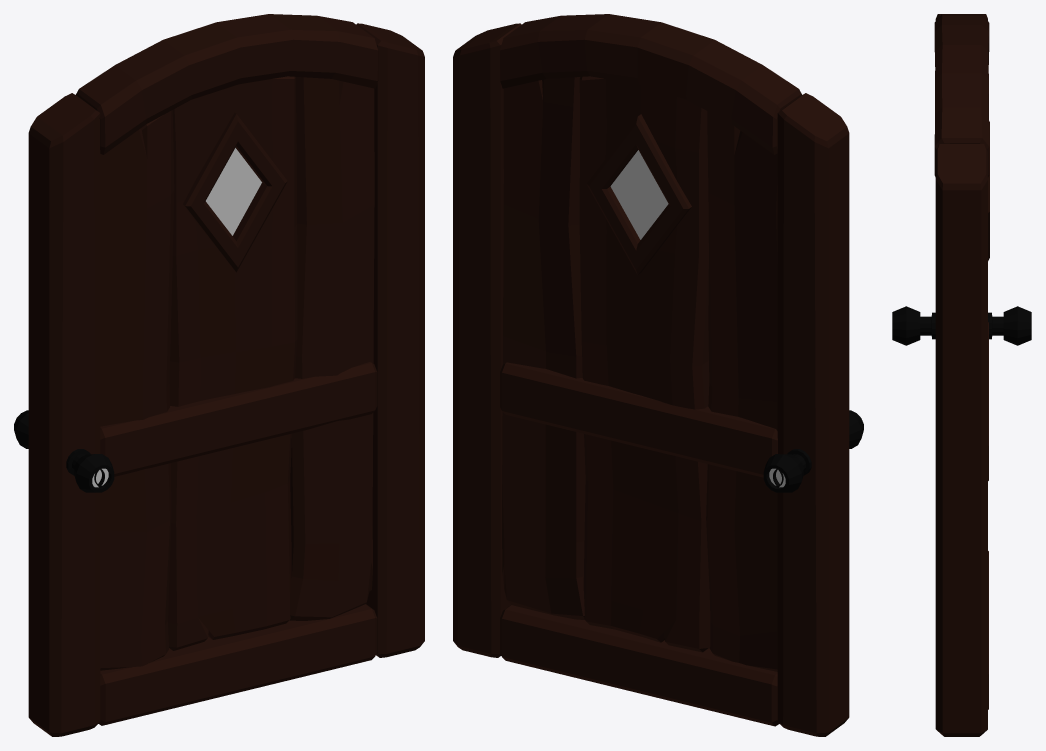
Rendered from DoorKieran.fbx.
3 views of the same model, side by side, from view 1: azimuth 30°, elevation 25°; view 2: azimuth 150°, elevation 25°; view 3: azimuth 270°, elevation 25° (orthographic). The views are drawn at different scales.
Visible parts, largest first — view 1: Door1; view 2: Door1; view 3: Door1.
Boxes of the visible parts, <box> form: Door1: <box>14,14,424,736</box>; Door1: <box>453,14,863,736</box>; Door1: <box>892,14,1031,736</box>.
Size of the model in its own units: 240 by 401 by 83.03.
